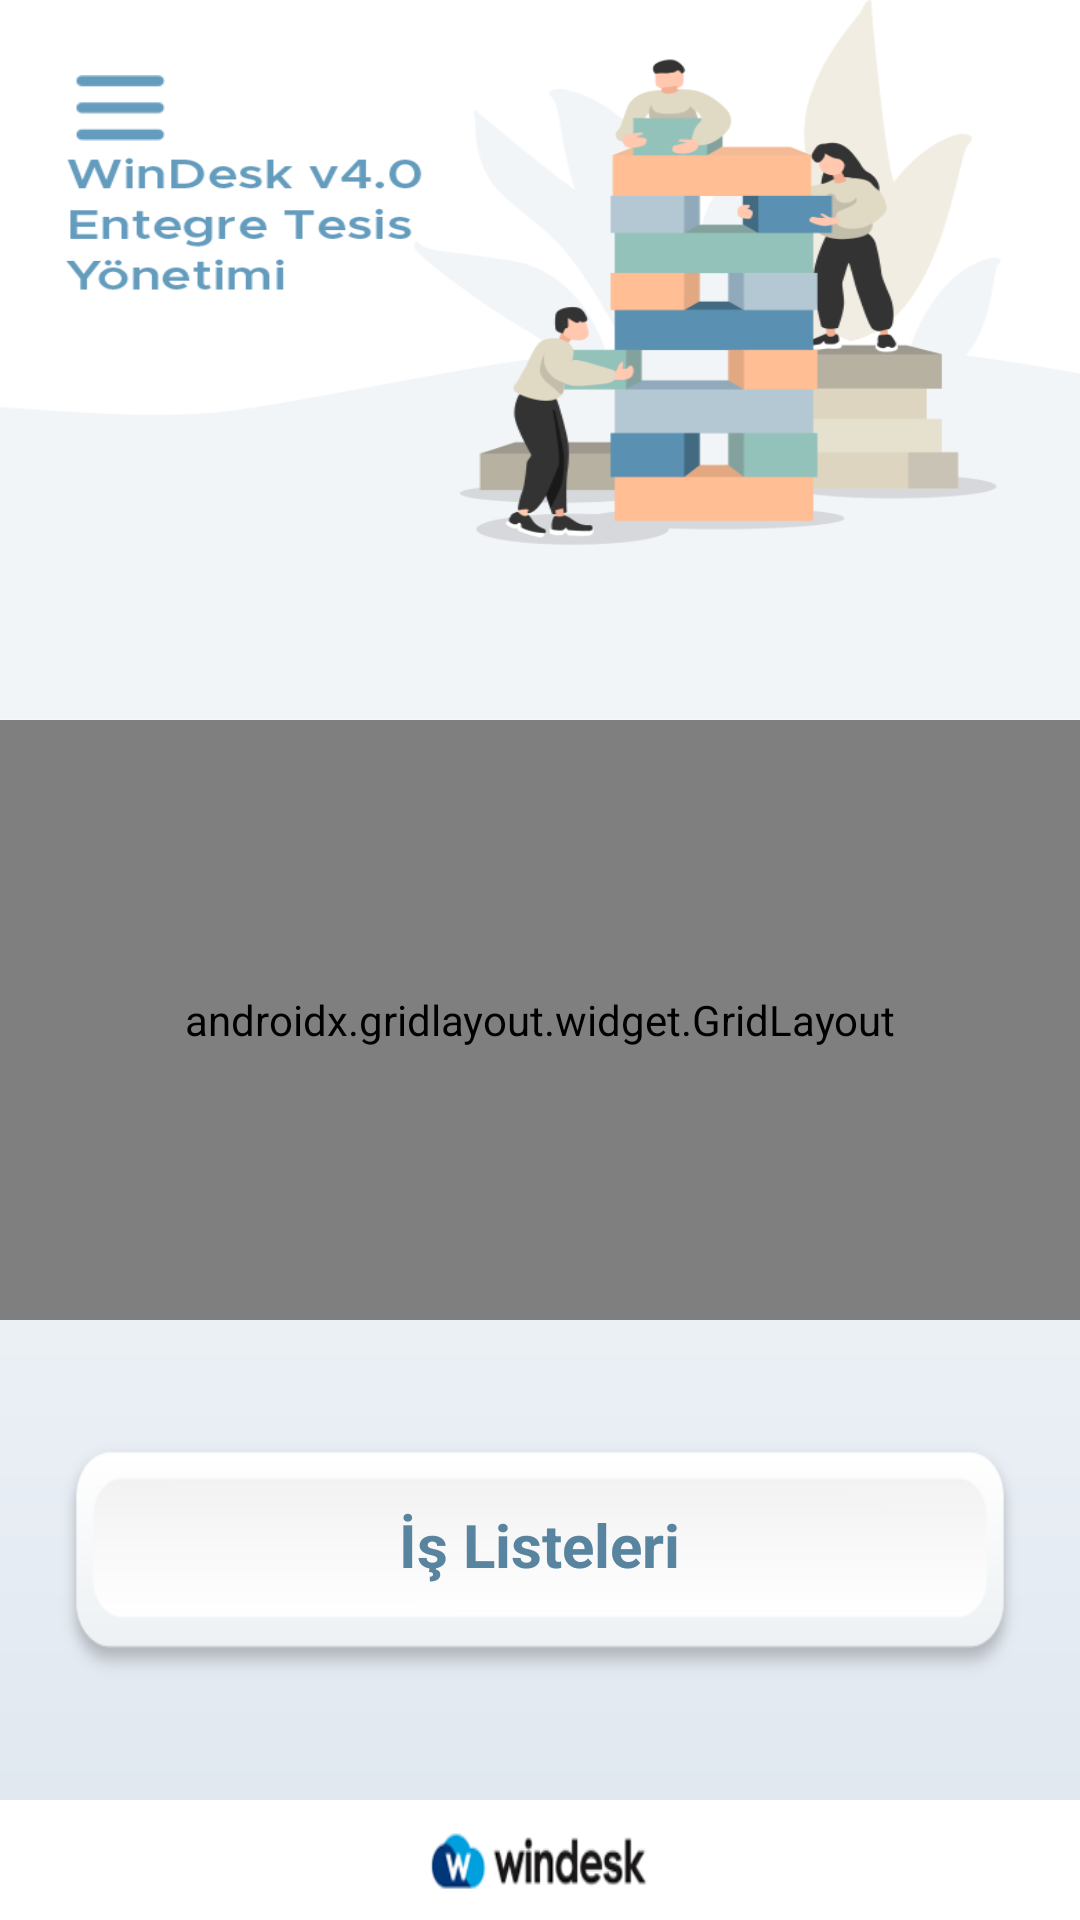

Where icons sit on this 1080x1920 app screen, as {"left": x1, "top": y1, "right": x2, "bottom": y2}:
yanmenu: {"left": 76, "top": 75, "right": 165, "bottom": 141}
